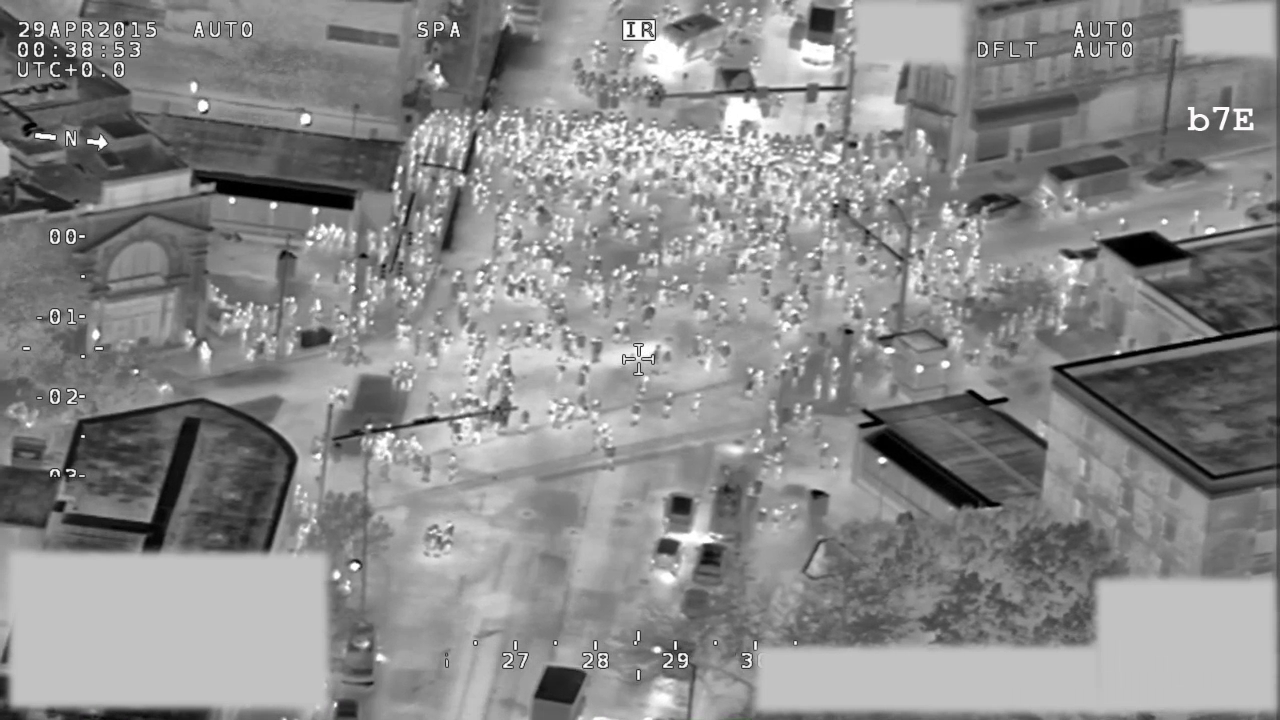vehicle: (1023, 152, 1135, 220), (640, 10, 731, 82), (709, 58, 770, 146), (708, 465, 760, 534), (795, 1, 843, 72), (1137, 153, 1211, 197), (961, 187, 1027, 225), (690, 540, 732, 598), (662, 487, 701, 537), (647, 536, 685, 583)
